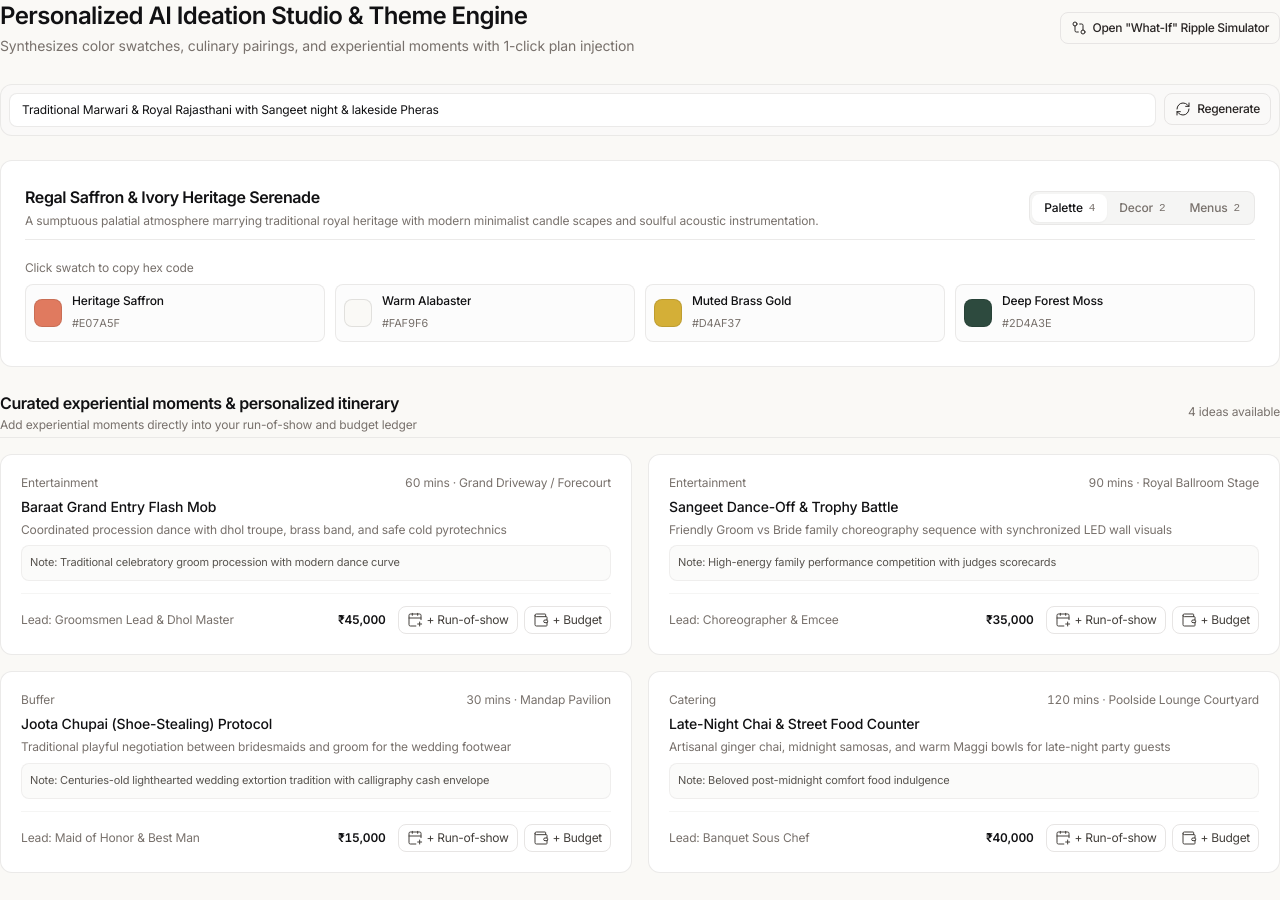
Scenario: IdeationTab & ThemeConceptCard Progressive Disclosure › navigates between Palette, Decor, and Menus progressive disclosure tabs
Click the button "Decor 2" at point(1142, 208), box [1107,194,1178,222]
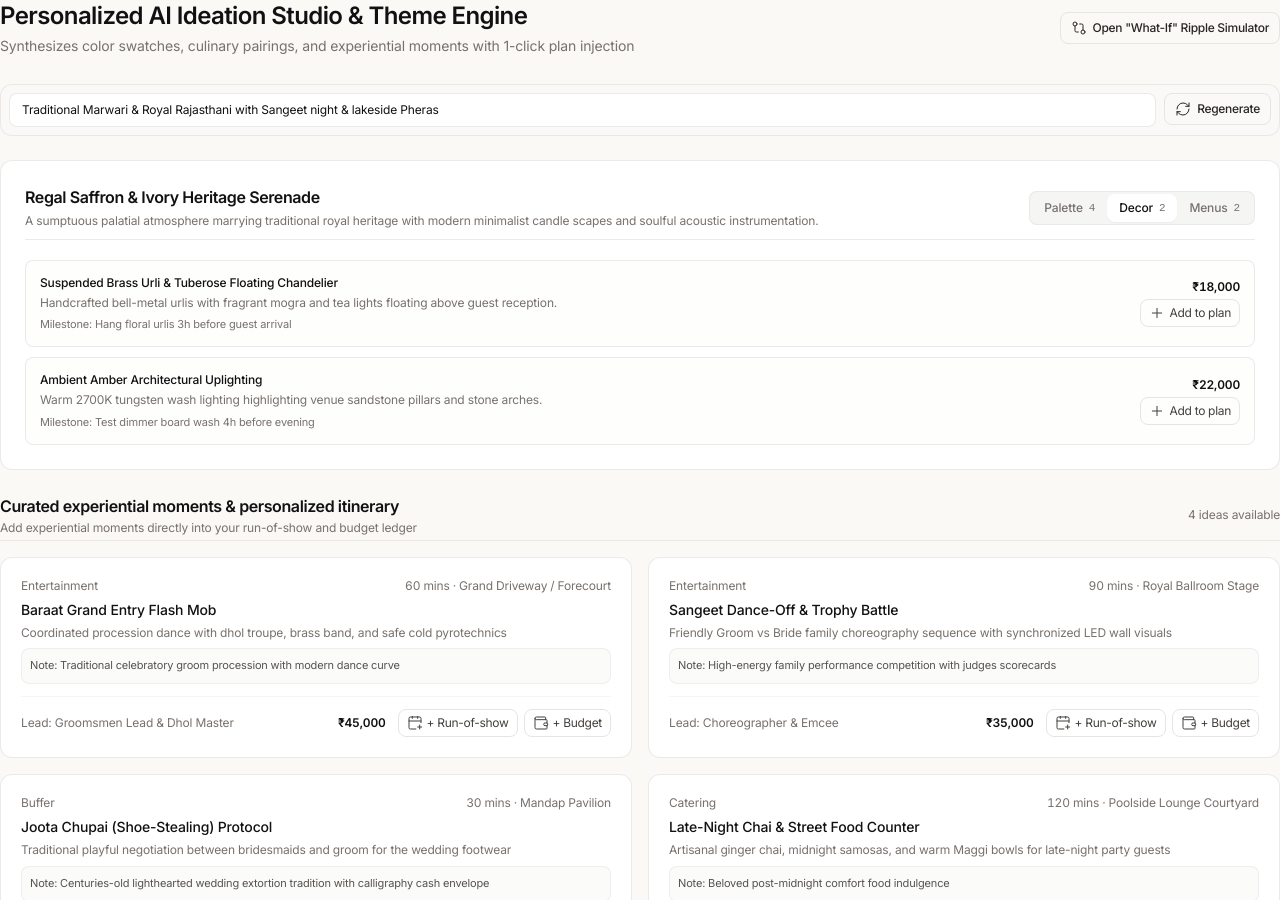
Result: the button "Add to plan" below "₹18,000" is shown at [1140,299,1240,327]
Click the button "Menus 2" at point(1215, 208), box [1177,194,1252,222]
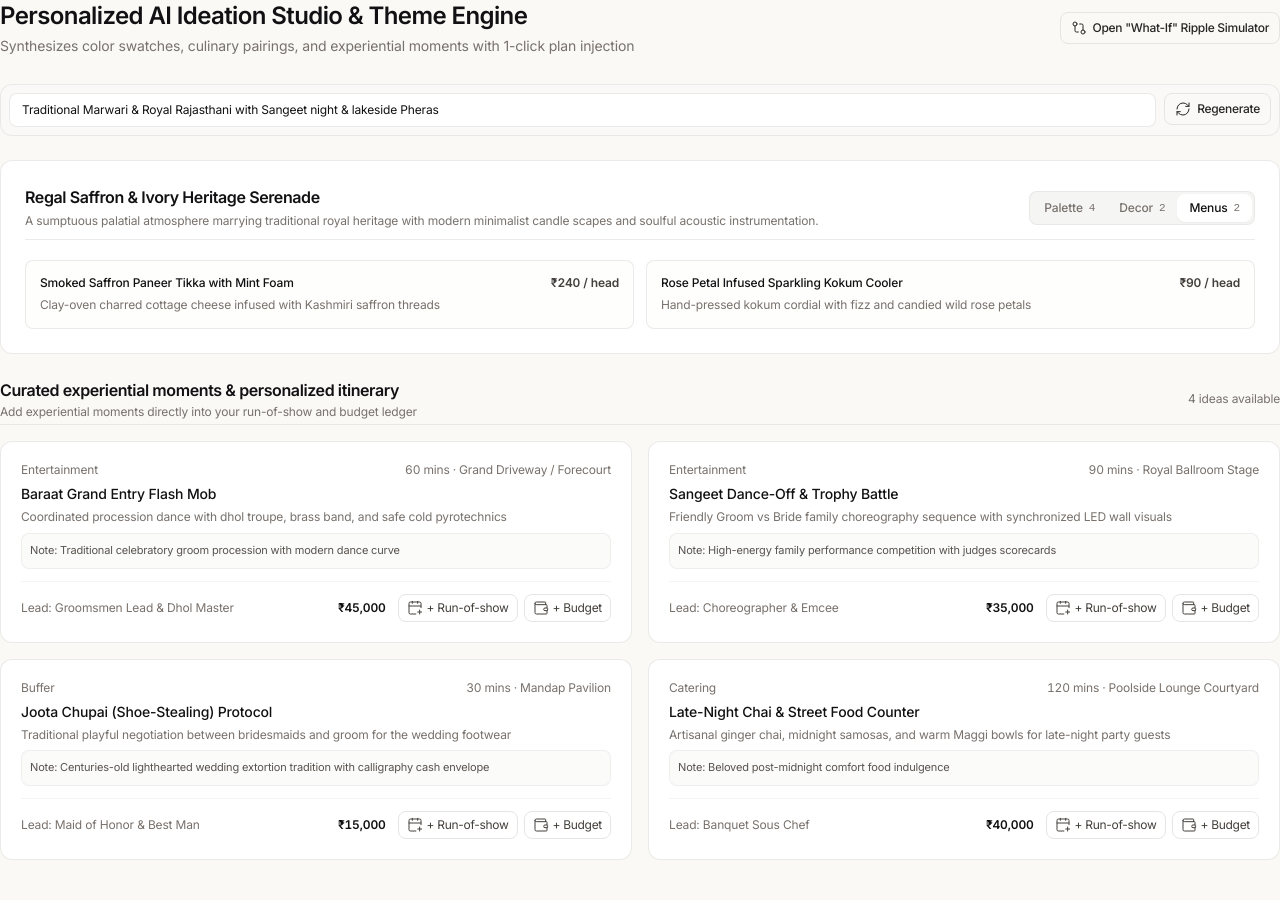
Result: the text "₹240 / head" is shown at [551,274,619,290]
